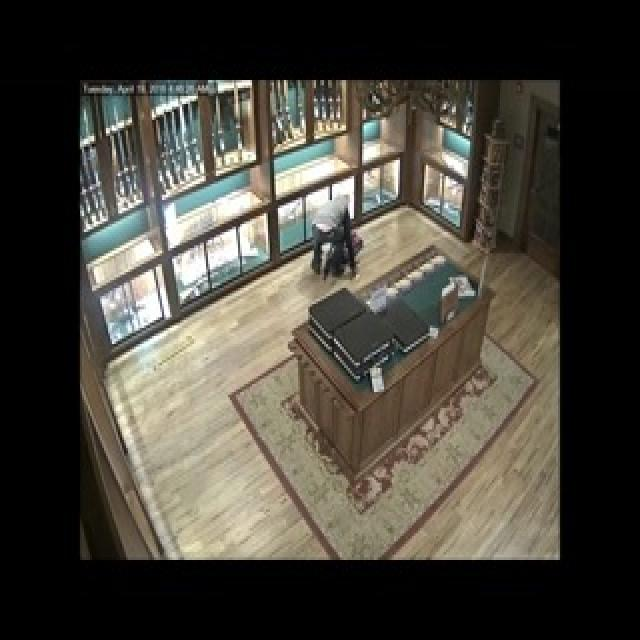thief: (305, 207, 369, 287)
